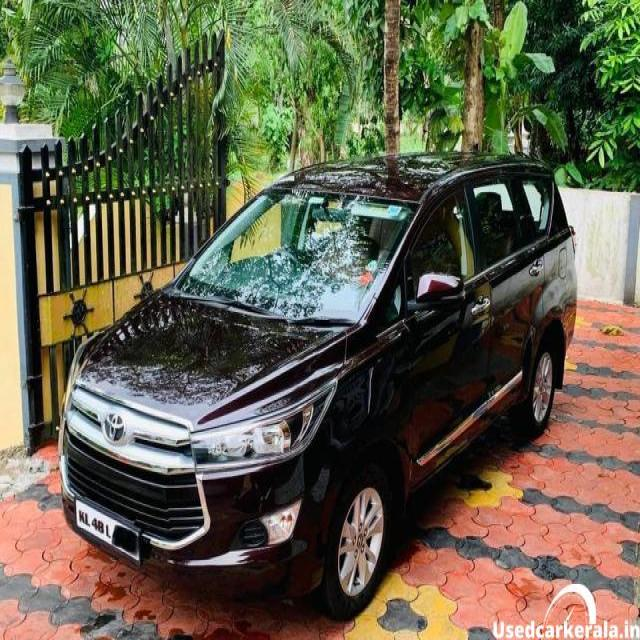light_vehicle: (59, 150, 579, 622)
